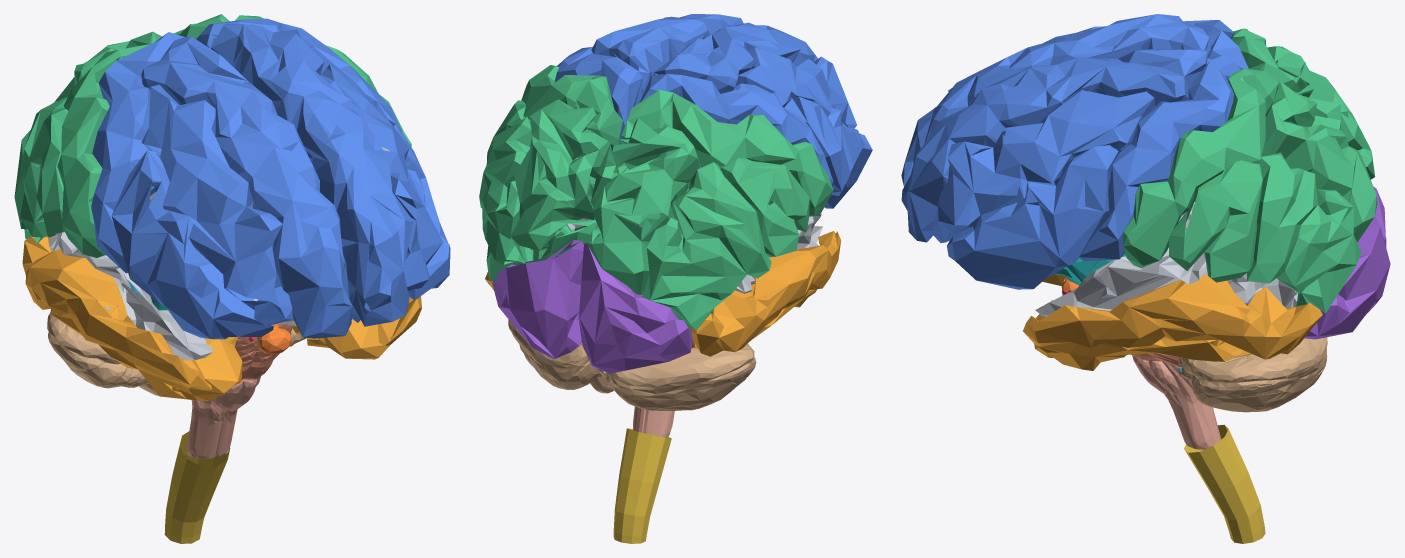
File: bodyparts3d-brain-only.glb
3 renders of one model, left to right at view 1: azimuth 30°, elevation 25°; view 2: azimuth 150°, elevation 25°; view 3: azimuth 270°, elevation 25°, orthographic. The views are drawn at different scales.
Visible parts, largest first — view 1: frontal_r, frontal_l, temporal_r, parietal_r, spinal_bridge, deep_r, cerebellum, medulla, temporal_l, pons, parietal_l, pituitary; view 2: parietal_r, parietal_l, frontal_r, cerebellum, occipital_r, temporal_r, frontal_l, occipital_l, spinal_bridge, medulla, deep_r; view 3: frontal_l, parietal_l, temporal_l, frontal_r, cerebellum, deep_l, parietal_r, spinal_bridge, occipital_l, medulla, insula_l.
Boxes of the visible parts, left/top/right/bottom form: frontal_r: left=91, top=32, right=352, bottom=339; frontal_l: left=196, top=18, right=450, bottom=326; temporal_r: left=22, top=236, right=242, bottom=401; parietal_r: left=14, top=31, right=161, bottom=257; spinal_bridge: left=164, top=431, right=230, bottom=543; deep_r: left=49, top=148, right=296, bottom=360; cerebellum: left=47, top=313, right=306, bottom=395; medulla: left=187, top=376, right=260, bottom=458; temporal_l: left=292, top=296, right=421, bottom=359; pons: left=234, top=323, right=292, bottom=380; parietal_l: left=174, top=14, right=411, bottom=146; pituitary: left=258, top=323, right=291, bottom=354; parietal_r: left=586, top=89, right=833, bottom=330; parietal_l: left=479, top=65, right=622, bottom=280; frontal_r: left=639, top=22, right=872, bottom=208; cerebellum: left=508, top=319, right=756, bottom=410; occipital_r: left=578, top=242, right=692, bottom=373; temporal_r: left=687, top=231, right=841, bottom=356; frontal_l: left=555, top=14, right=743, bottom=144; occipital_l: left=492, top=240, right=583, bottom=359; spinal_bridge: left=613, top=428, right=671, bottom=543; medulla: left=633, top=406, right=674, bottom=437; deep_r: left=735, top=100, right=822, bottom=293; frontal_l: left=901, top=48, right=1240, bottom=289; parietal_l: left=1123, top=68, right=1377, bottom=313; temporal_l: left=1023, top=274, right=1322, bottom=370; frontal_r: left=901, top=14, right=1248, bottom=186; cerebellum: left=1179, top=337, right=1327, bottom=412; deep_l: left=1031, top=181, right=1297, bottom=317; parietal_r: left=1230, top=28, right=1375, bottom=179; spinal_bridge: left=1184, top=424, right=1265, bottom=543; occipital_l: left=1296, top=216, right=1390, bottom=339; medulla: left=1132, top=356, right=1221, bottom=449; insula_l: left=1054, top=252, right=1125, bottom=285.
Bounding box in the file's own units: 0.1394 × 0.2049 × 0.1809.
